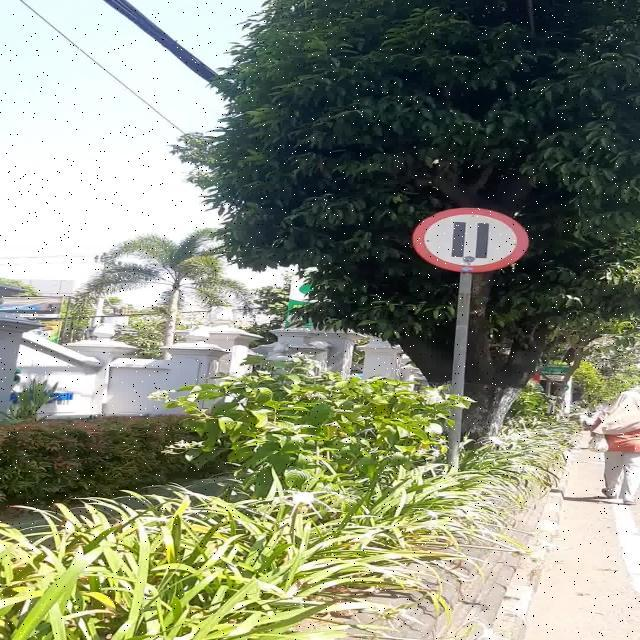Larangan Muatan - 10 ton: (413, 208, 528, 272)
